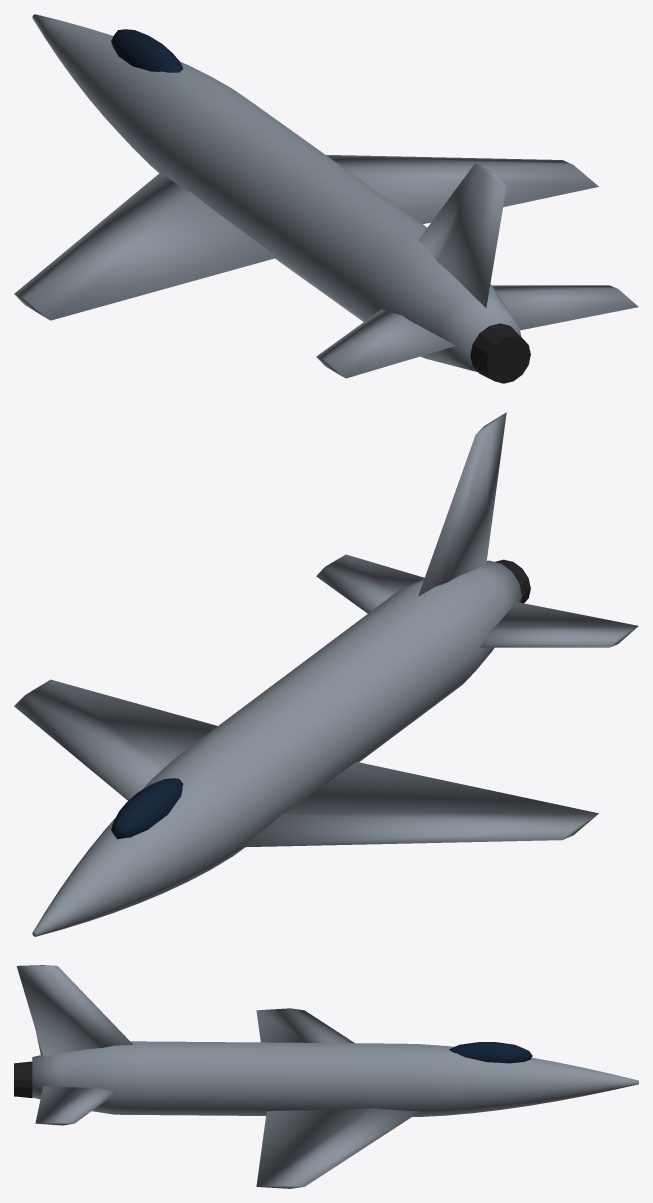
3 renders of one model, top to bottom at view 1: azimuth 30°, elevation 25°; view 2: azimuth 150°, elevation 25°; view 3: azimuth 270°, elevation 25°, orthographic. The views are drawn at different scales.
Parts seen in each view (by area): view 1: Body, Detail, Canopy; view 2: Body, Canopy; view 3: Body, Canopy, Detail.
Part boxes in pixels (box(x1,y1,x2,y2)): Body: box(14, 14, 638, 378); Detail: box(470, 323, 530, 383); Canopy: box(111, 29, 183, 72); Body: box(14, 412, 638, 936); Canopy: box(111, 778, 183, 839); Body: box(16, 965, 638, 1188); Canopy: box(449, 1042, 532, 1063); Detail: box(14, 1061, 32, 1098).
Bounding box in the file's own units: 8.4 × 3.28 × 12.57.
